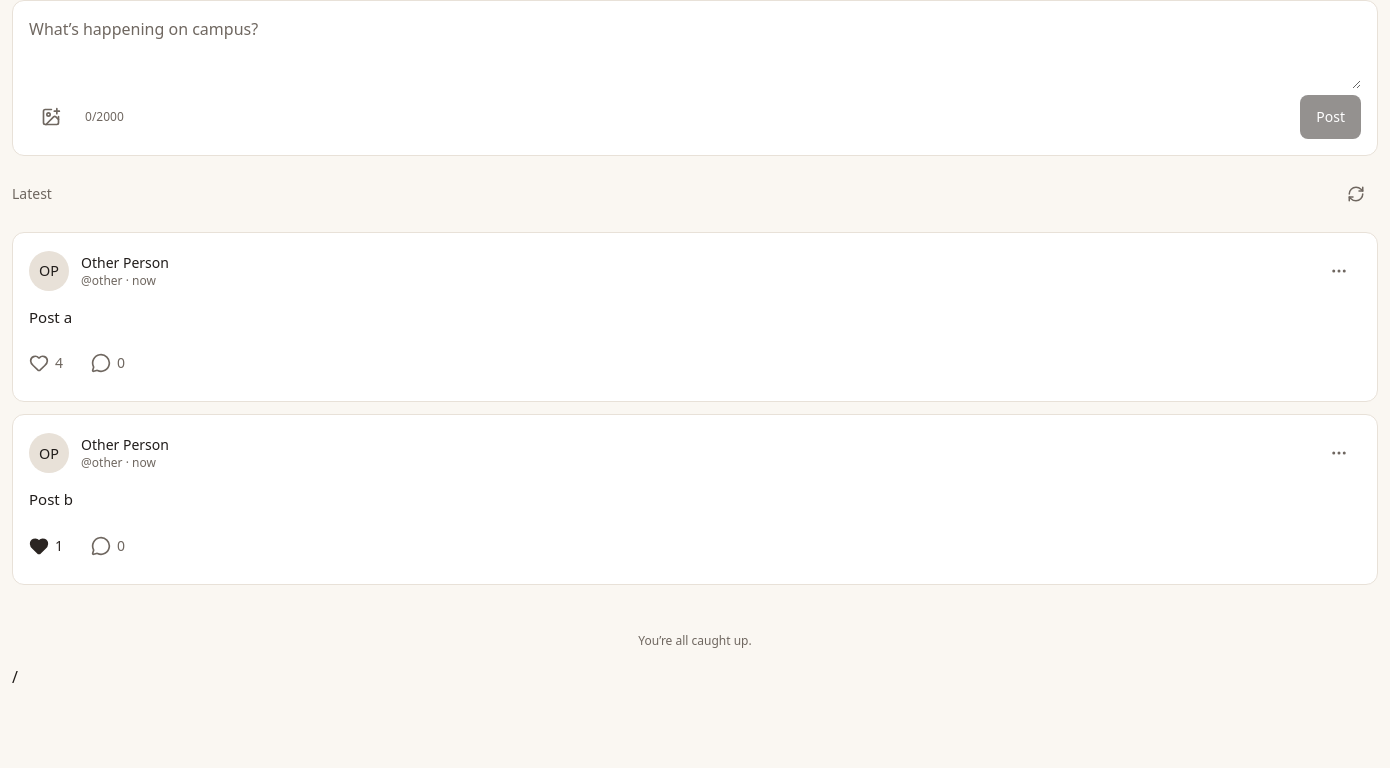
Scenario: likes › removes a post that is no longer visible (404)
The width and height of the screenshot is (1390, 768).
Click the button named "Like (4 likes)": click(50, 363) [29, 341, 71, 385]
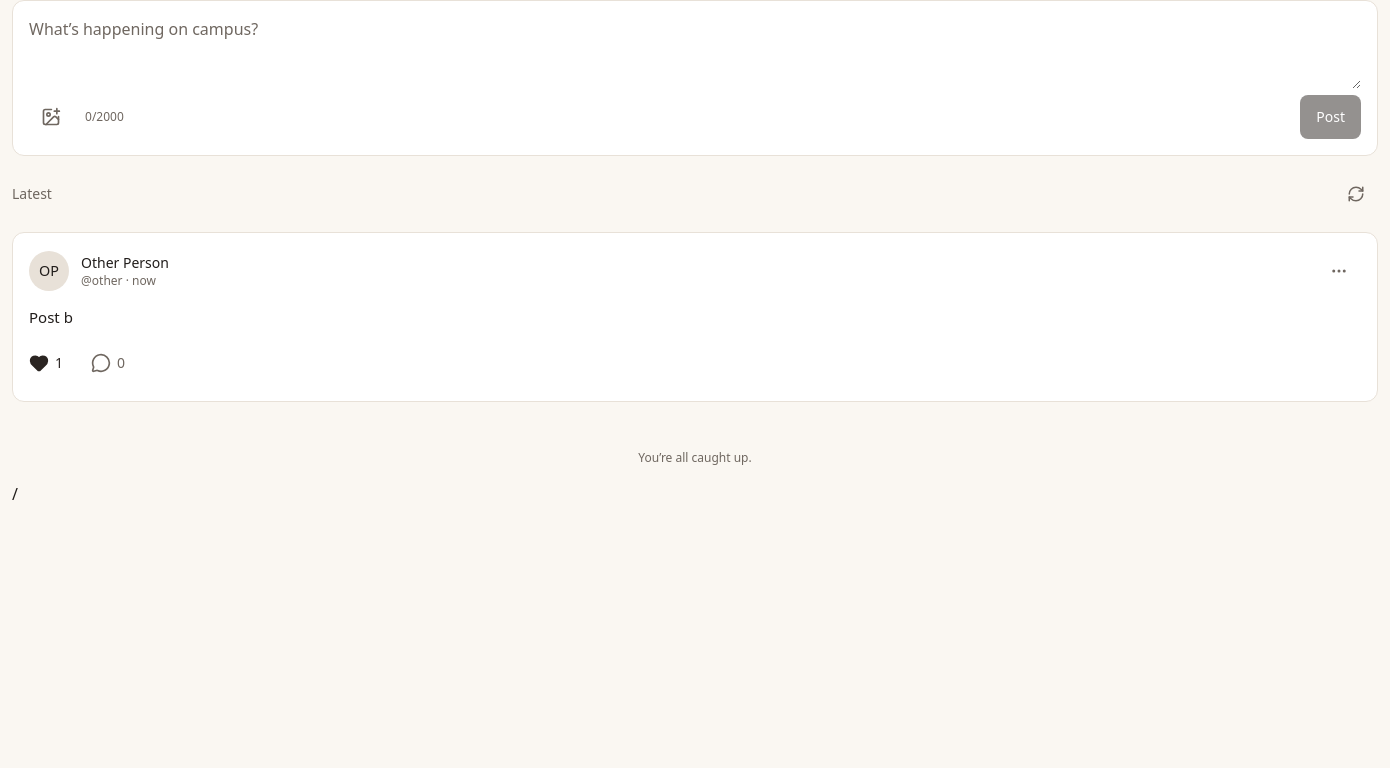
Expected: the text "Post b" is shown, [29, 307, 73, 327]
Expected: the link "Post a" is gone
